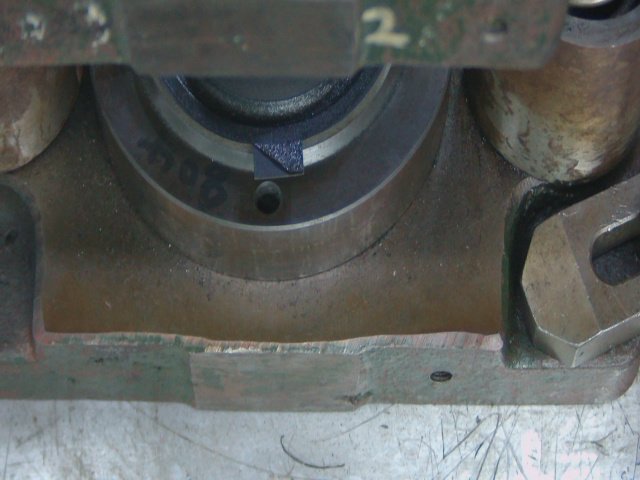HX3: (251, 134, 314, 190)
